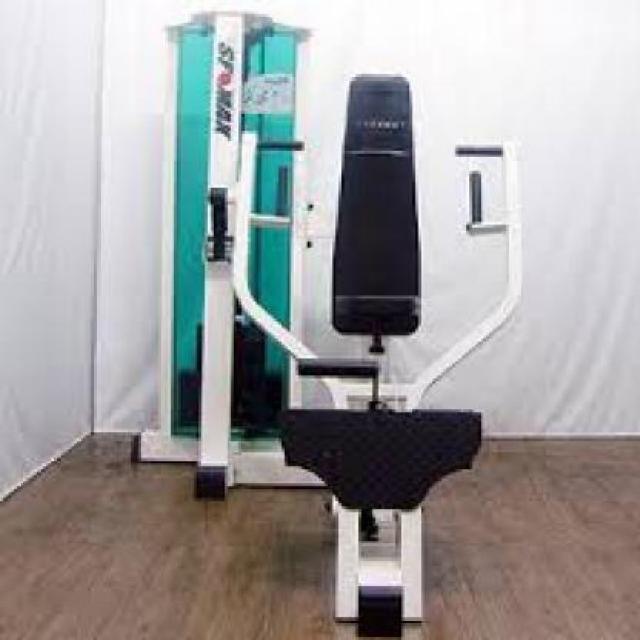Chest Press machine: (121, 4, 532, 640)
